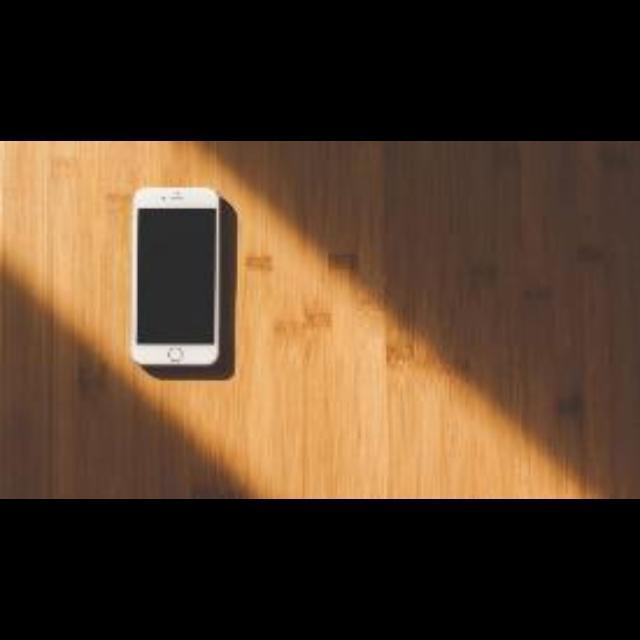phone: (120, 176, 244, 388)
